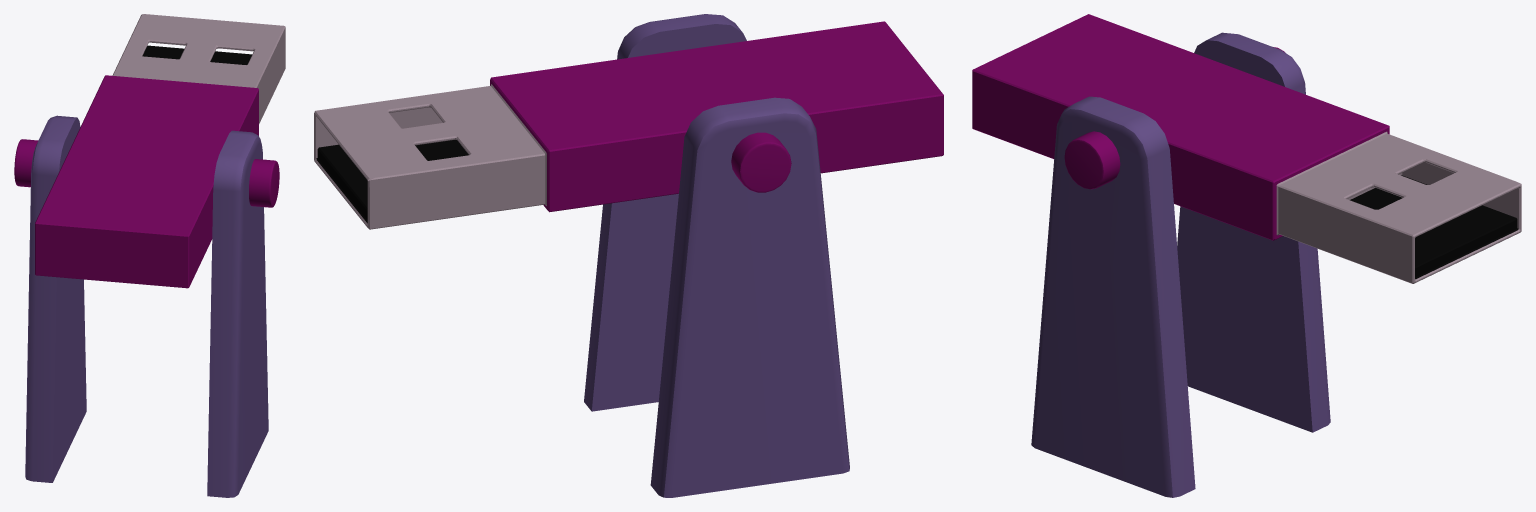
Rendered from Single_Turret_USB.fbx.
The picture shows the model from 3 angles, left to right: view 1: azimuth 30°, elevation 25°; view 2: azimuth 150°, elevation 25°; view 3: azimuth 270°, elevation 25°; orthographic projection. The views are drawn at different scales.
Visible parts, largest first — view 1: USB, USB_Legs; view 2: USB_Legs, USB; view 3: USB_Legs, USB.
Part boxes in pixels (x1,y1,x2,y2): USB: (35, 14, 285, 288); USB_Legs: (14, 115, 279, 497); USB_Legs: (584, 14, 849, 497); USB: (314, 21, 943, 229); USB_Legs: (1031, 32, 1330, 497); USB: (972, 14, 1521, 283).
Bounding box in the file's own units: 1.98 × 1.52 × 2.12.
